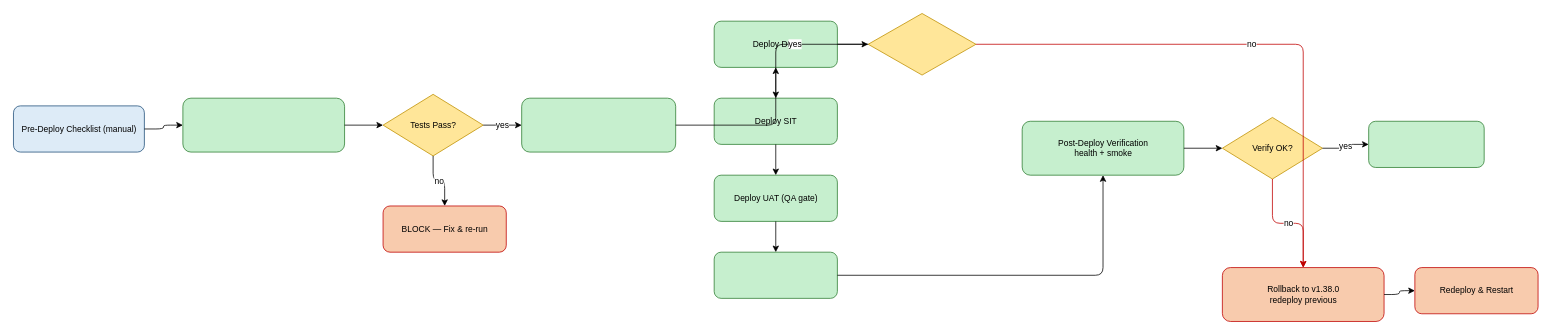
Some shapes in this 1552 by 335 pixel diagram are drawn without their labels. The centre of each missing label's shape, as x and y in pixels:
"Build & Unit Test npm ci && build && test:unit" goes at point (263, 124).
"Deploy PROD (PM gate)" goes at point (775, 274).
"DEV Health OK?" goes at point (921, 44).
"Publish Release v1.39.0 npm publish / docker push" goes at point (598, 124).
"Release Done" goes at point (1426, 144).
